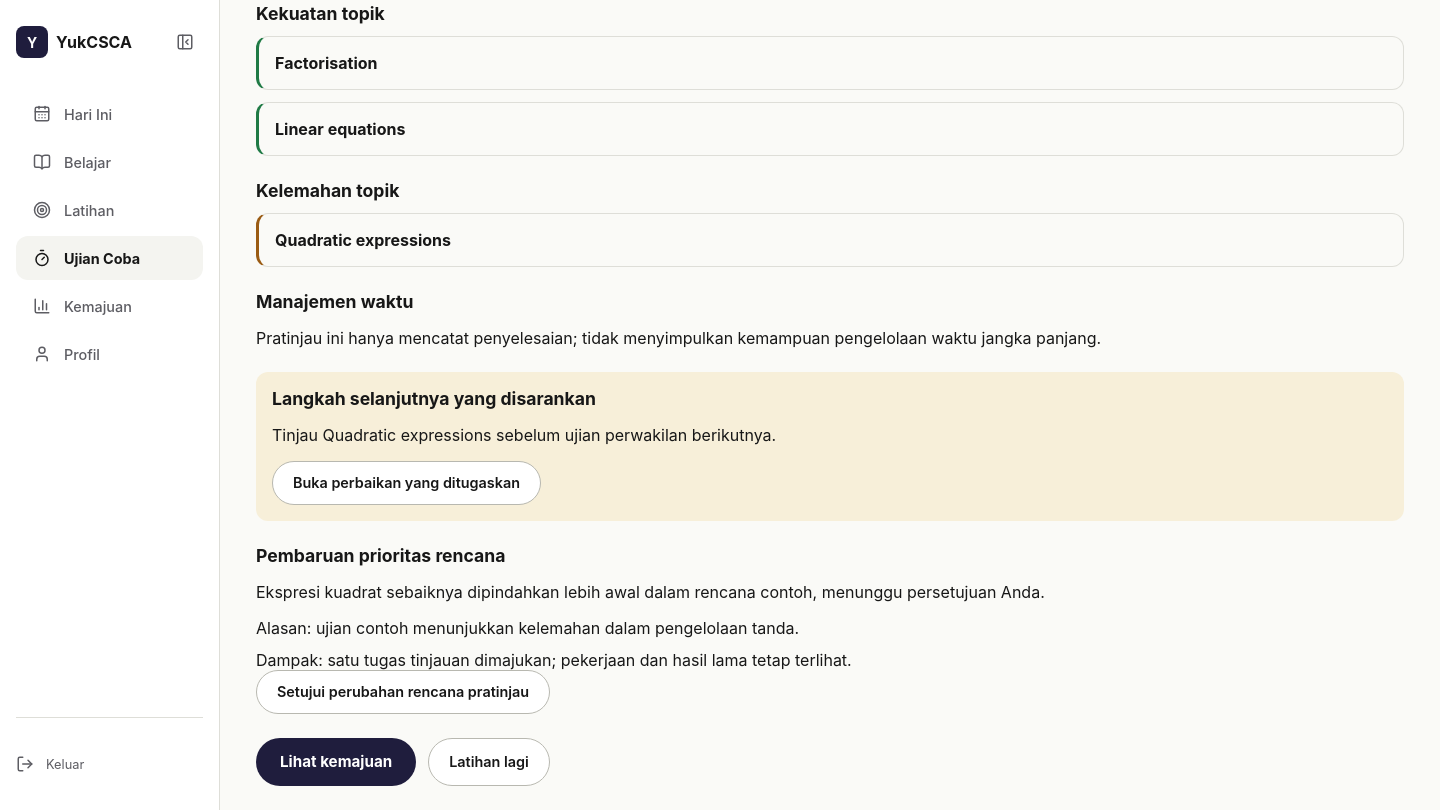
it: PX-001 integrated preview states › keeps a completed mock recommendation pending until the student approves it
The image size is (1440, 810).
(page scrolled)
Expected: the text "menunggu persetujuan" is shown, x1=256 y1=582 x2=1045 y2=602
Click the button "Setujui perubahan rencana pratinjau" at (403, 692), box x1=256 y1=670 x2=550 y2=714
(page scrolled)
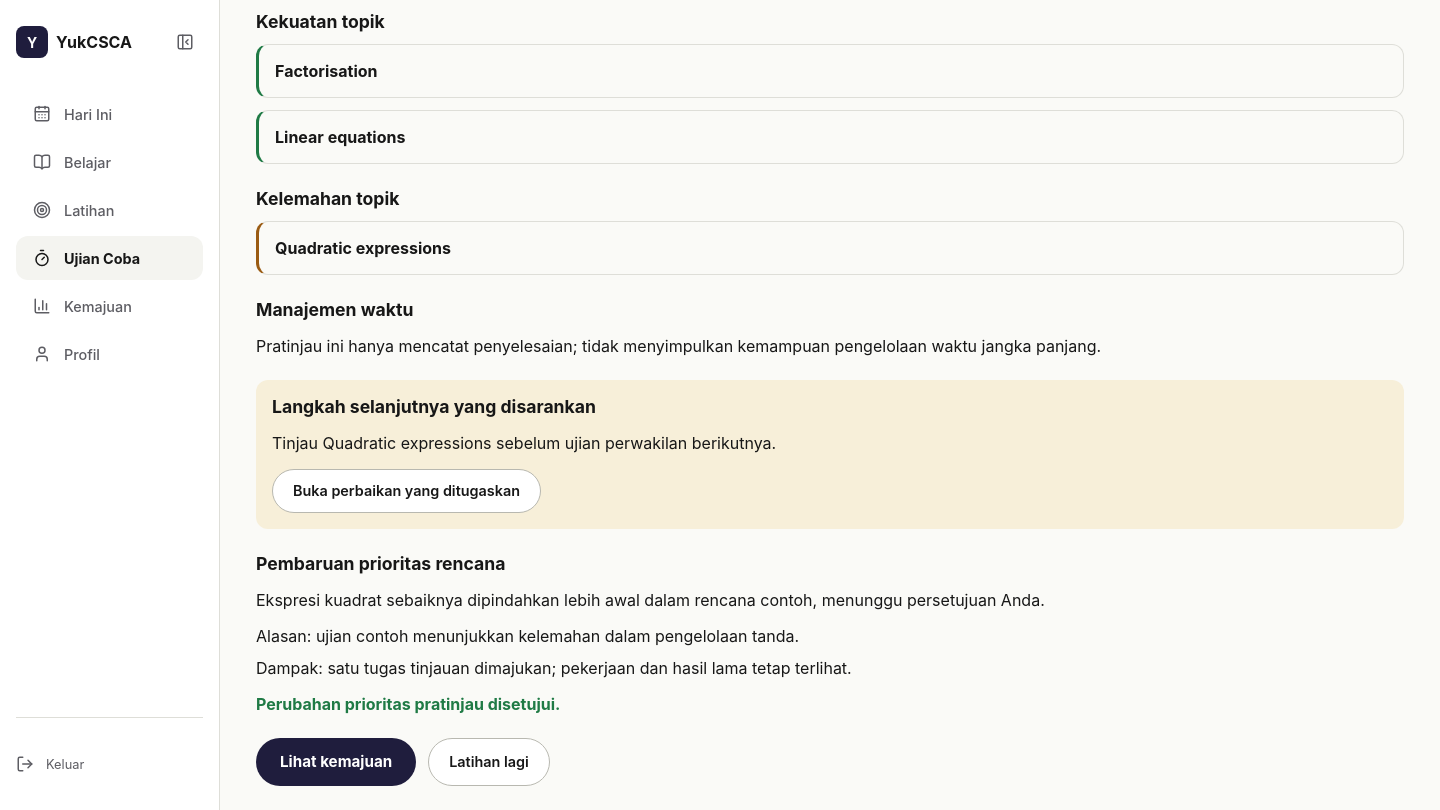
Expected: the message shows "disetujui", x1=256 y1=694 x2=560 y2=714
